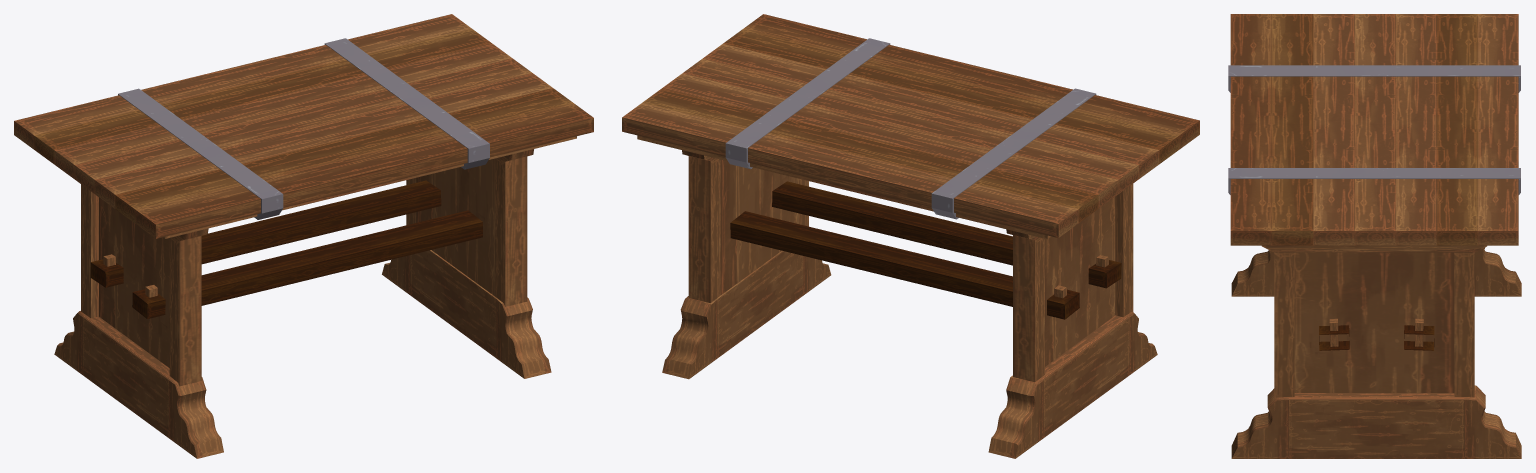
Rendered from table.gltf.
The picture shows the model from 3 angles, left to right: view 1: azimuth 30°, elevation 25°; view 2: azimuth 150°, elevation 25°; view 3: azimuth 270°, elevation 25°; orthographic projection.
Visible parts, largest first — view 1: table; view 2: table; view 3: table.
Boxes of the visible parts, <box> form: table: <box>14,14,593,458</box>; table: <box>622,14,1199,458</box>; table: <box>1228,14,1521,458</box>.
Size of the model in its own units: 1.4 by 0.75 by 0.8.
2 materials, 2 textured.
